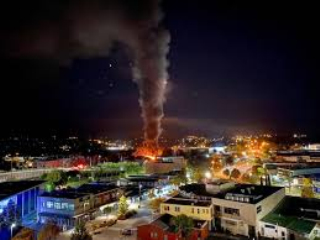fire: (137, 144, 166, 164)
smoke: (124, 35, 175, 144)
